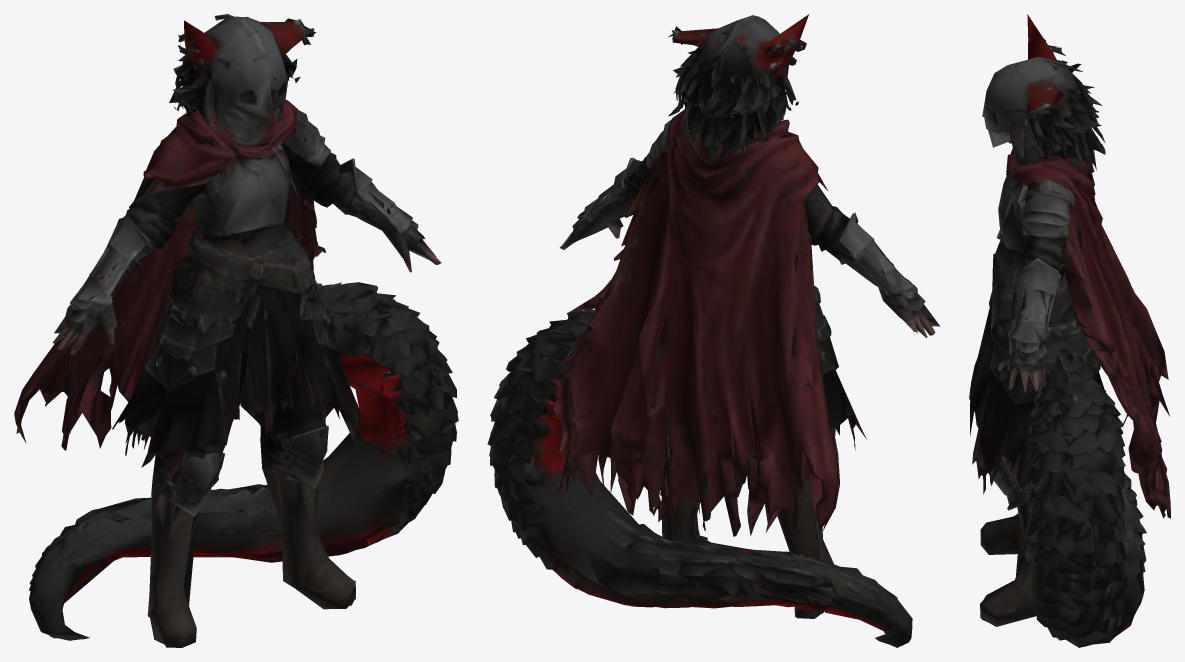
File: jefrie_apose_e01.glb
3 renders of one model, left to right at view 1: azimuth 30°, elevation 25°; view 2: azimuth 150°, elevation 25°; view 3: azimuth 270°, elevation 25°, orthographic. The views are drawn at different scales.
Parts seen in each view (by area): view 1: geometry_0; view 2: geometry_0; view 3: geometry_0.
Boxes of the visible parts, bbox=[...] form: geometry_0: bbox=[14, 14, 458, 647]; geometry_0: bbox=[487, 14, 940, 647]; geometry_0: bbox=[969, 14, 1170, 647].
Size of the model in its own units: 0.7213 by 0.9977 by 0.332.
1 material, 1 textured.
